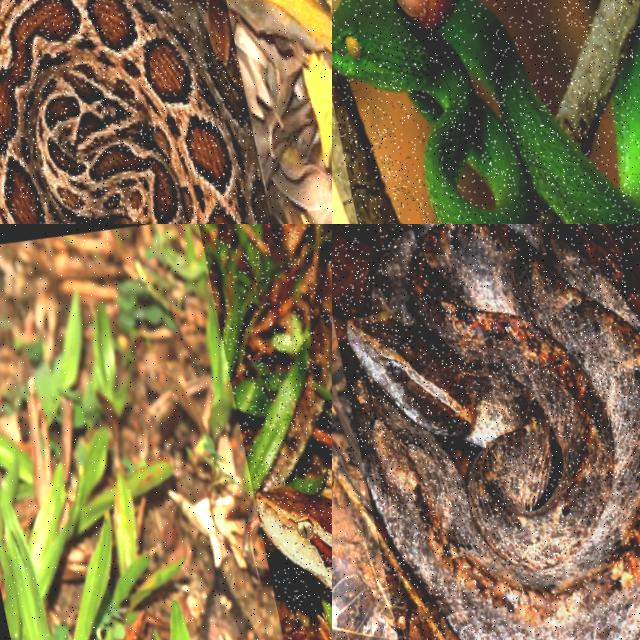Calloselasma rhodostoma: (348, 224, 639, 639), (255, 251, 331, 588)
Daboia siamensis: (0, 0, 270, 223)
Trimeresurus: (332, 0, 639, 223)
